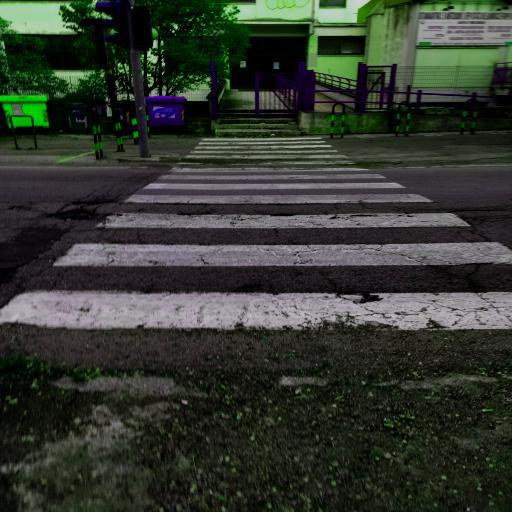crosswalk: (1, 234, 511, 341), (122, 179, 438, 206)
